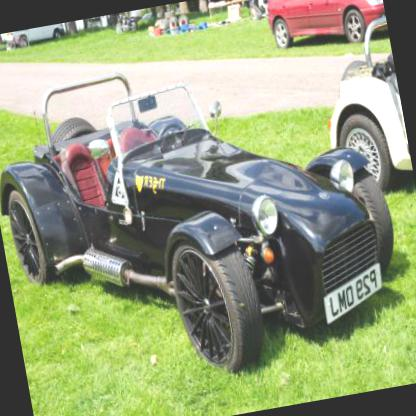car: (0, 26, 414, 408), (310, 16, 416, 202), (258, 0, 389, 63)
